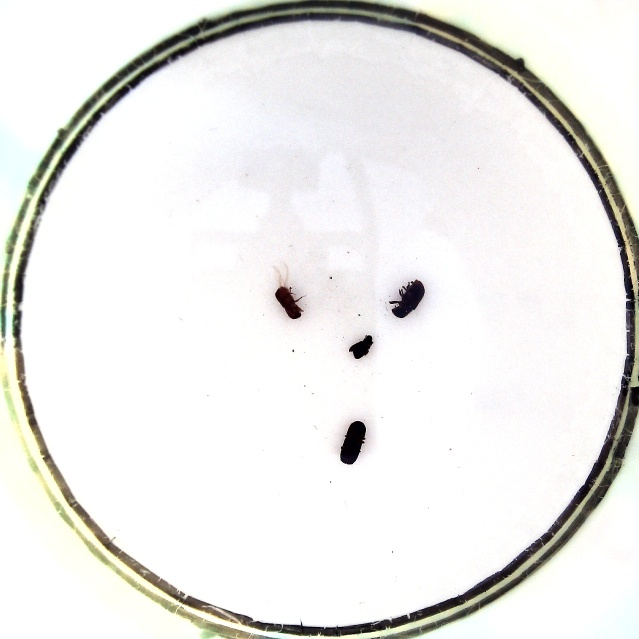acuminatus: (272, 285, 305, 323)
armandi: (388, 277, 428, 320)
coleoptera: (345, 333, 376, 360)
linnaeus: (337, 418, 368, 466)
